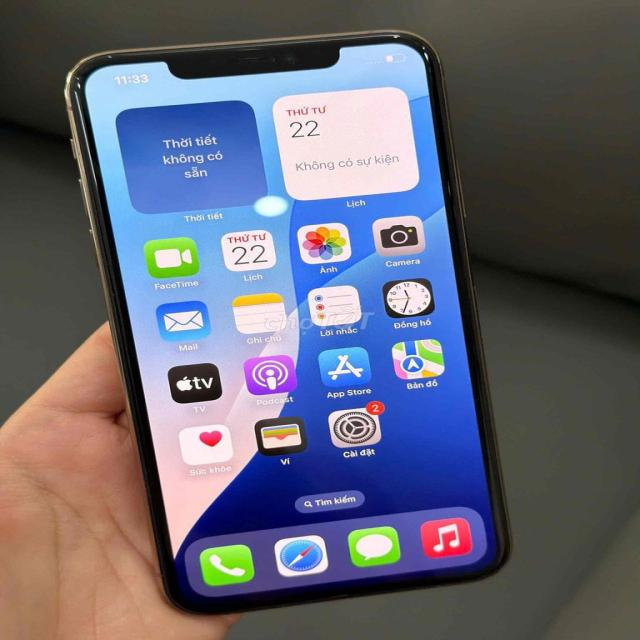gen_11: (66, 31, 508, 613)
